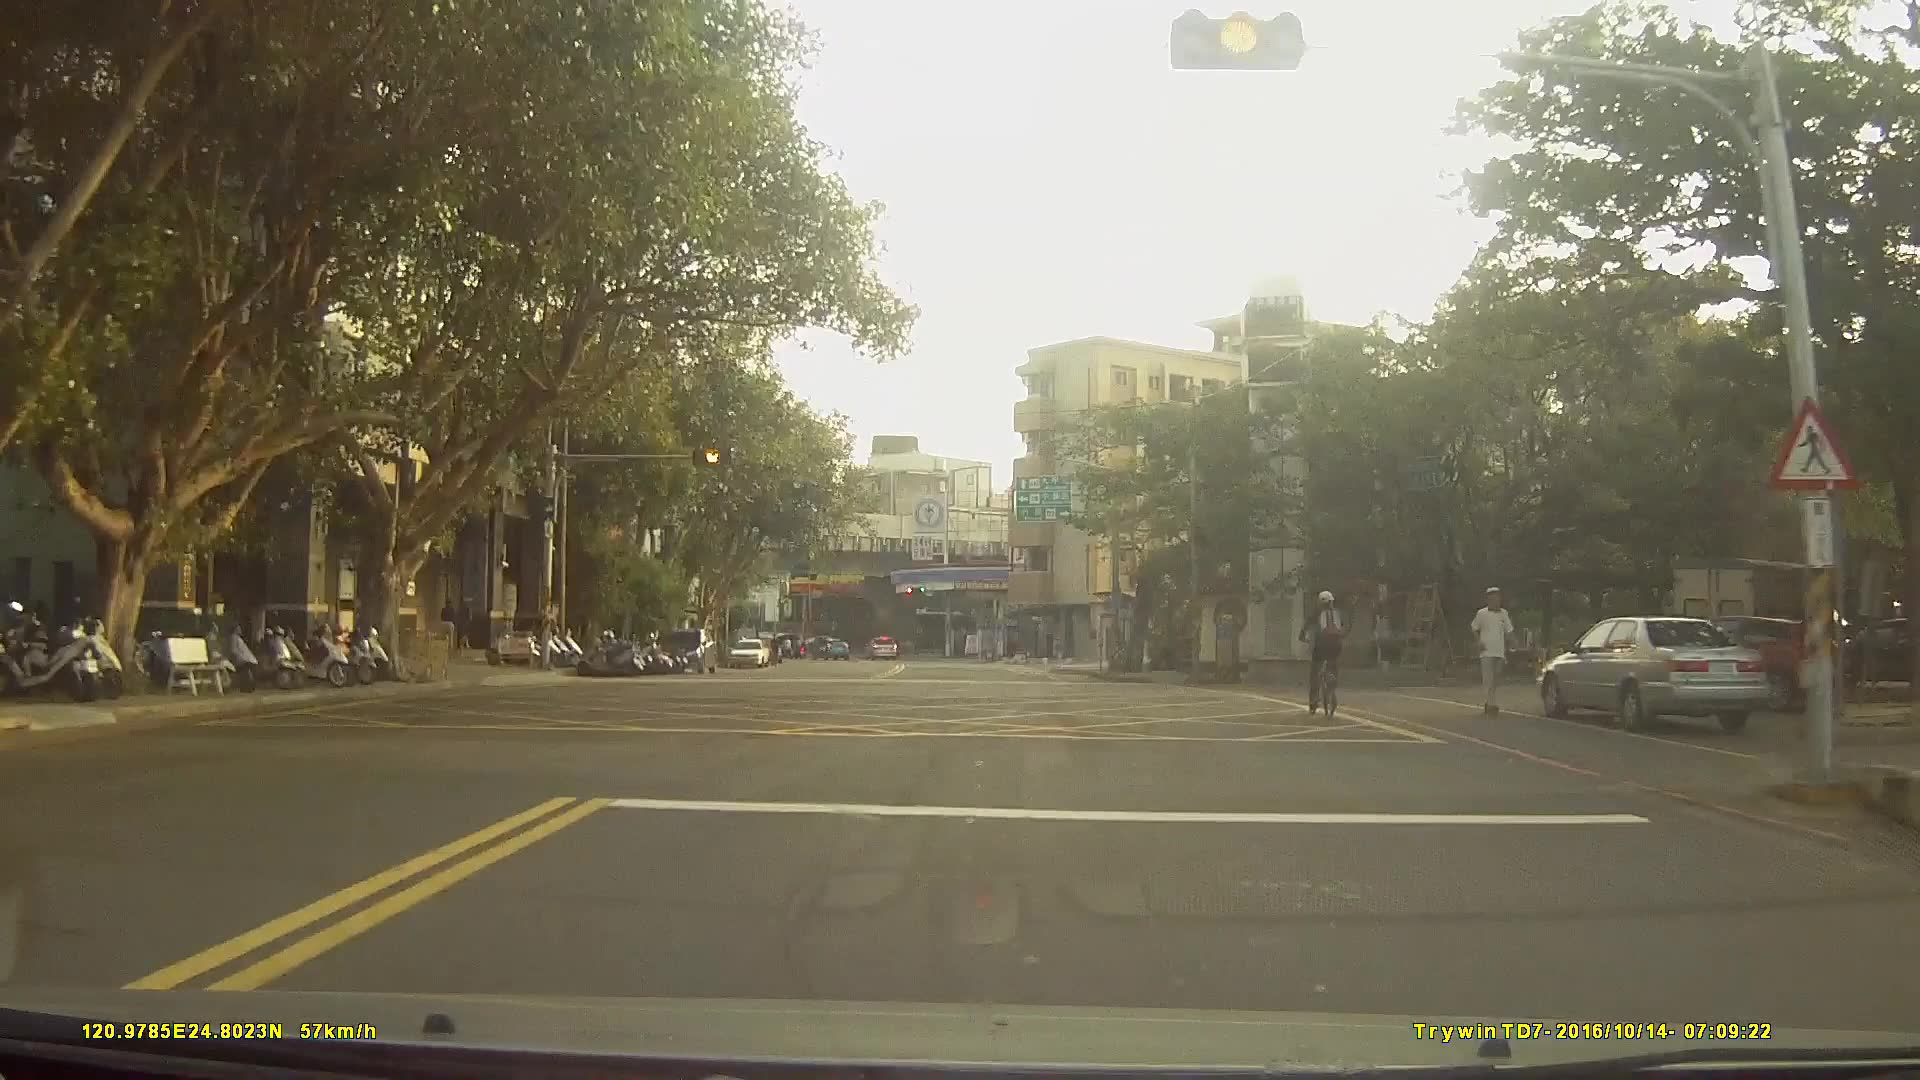pedestrian: (1461, 583, 1524, 724), (437, 598, 462, 654)
rider: (1297, 590, 1349, 722)
vehicle: (1537, 613, 1772, 732), (659, 625, 717, 674), (729, 636, 768, 668), (809, 637, 849, 660), (862, 633, 897, 659)
